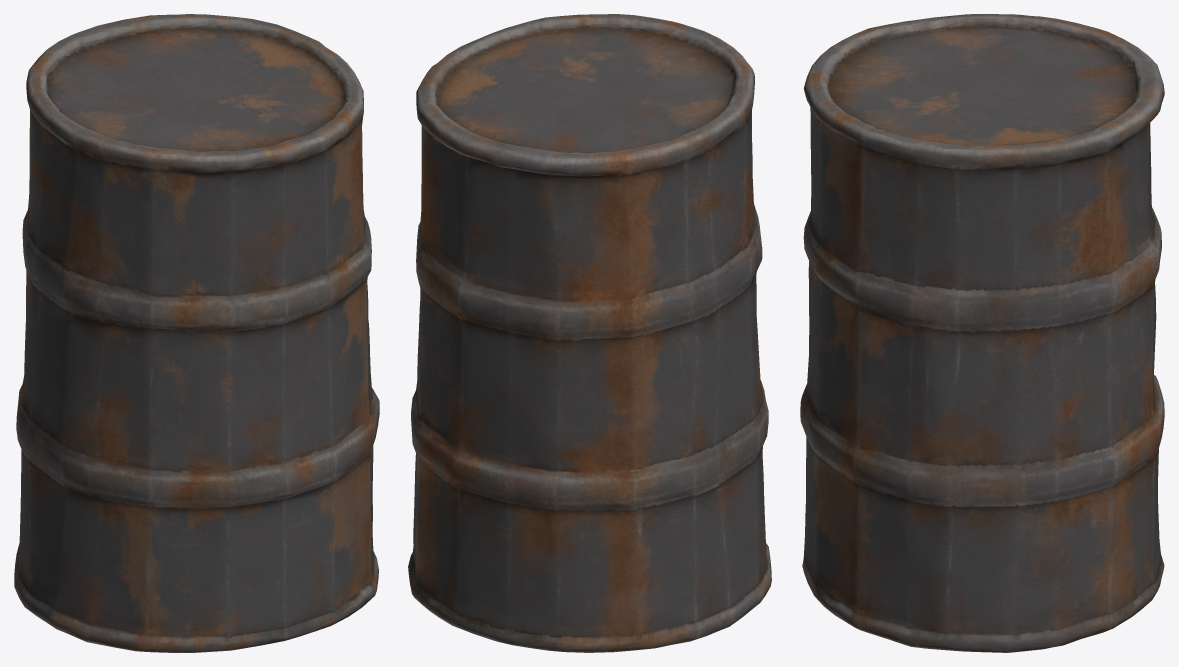
The model's file is oil_barrel_candidate.glb.
3 renders of one model, left to right at view 1: azimuth 30°, elevation 25°; view 2: azimuth 150°, elevation 25°; view 3: azimuth 270°, elevation 25°, orthographic.
Visible parts, largest first — view 1: oil_barrel_candidate; view 2: oil_barrel_candidate; view 3: oil_barrel_candidate.
Part boxes in pixels (x1=…): oil_barrel_candidate: x1=14, y1=14, x2=379, y2=652; oil_barrel_candidate: x1=408, y1=14, x2=771, y2=652; oil_barrel_candidate: x1=800, y1=14, x2=1164, y2=652.
Size of the model in its own units: 0.6592 by 1 by 0.6592.
Materials: 1 (1 with a texture image).
